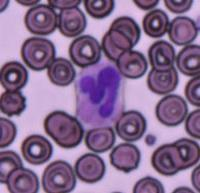N: (75, 59, 126, 130)
